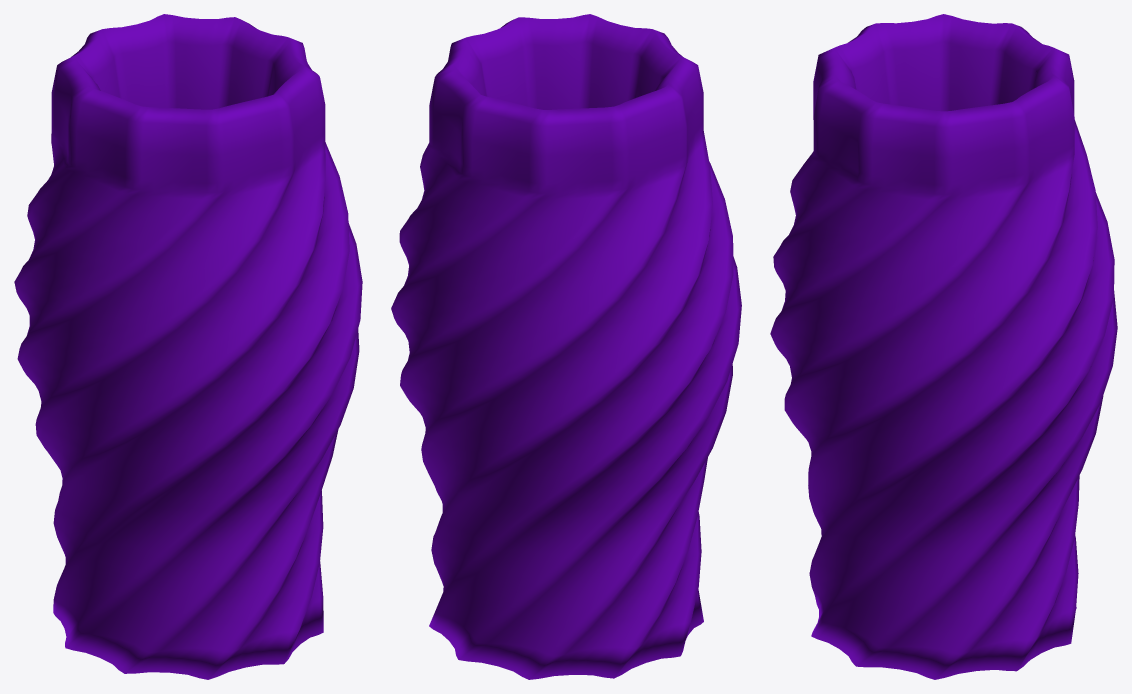
Rendered from New imported vase.fbx.
3 renders of one model, left to right at view 1: azimuth 30°, elevation 25°; view 2: azimuth 150°, elevation 25°; view 3: azimuth 270°, elevation 25°, orthographic.
Visible parts, largest first — view 1: pCylinder233; view 2: pCylinder233; view 3: pCylinder233.
Part boxes in pixels (x1,y1,x2,y2): pCylinder233: (14, 14, 362, 679); pCylinder233: (391, 14, 741, 679); pCylinder233: (770, 14, 1117, 679).
Size of the model in its own units: 19.99 by 35.46 by 19.95.
